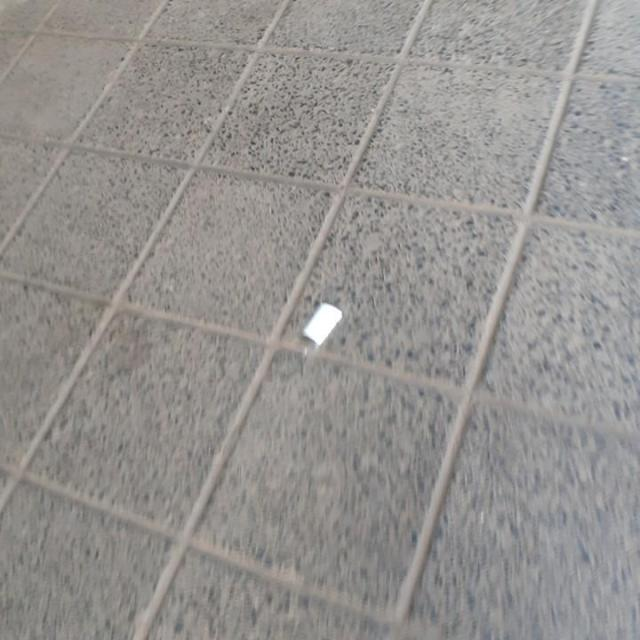litter: (298, 298, 353, 354)
